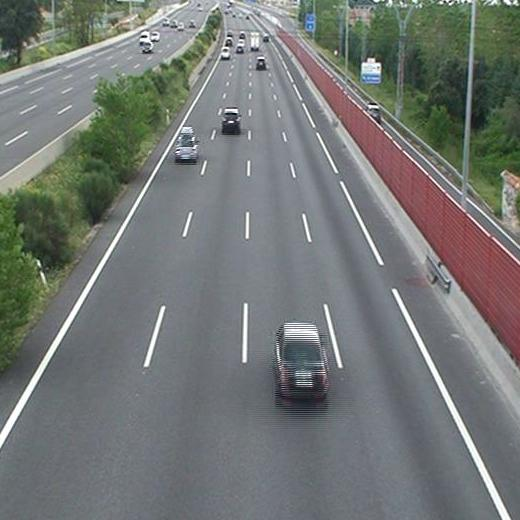car: (276, 326, 325, 395), (174, 134, 197, 161), (221, 108, 241, 132), (256, 57, 266, 69), (224, 37, 232, 47), (236, 46, 245, 54), (262, 33, 270, 41)
small-truck: (250, 32, 261, 51)
van: (219, 48, 230, 59)
